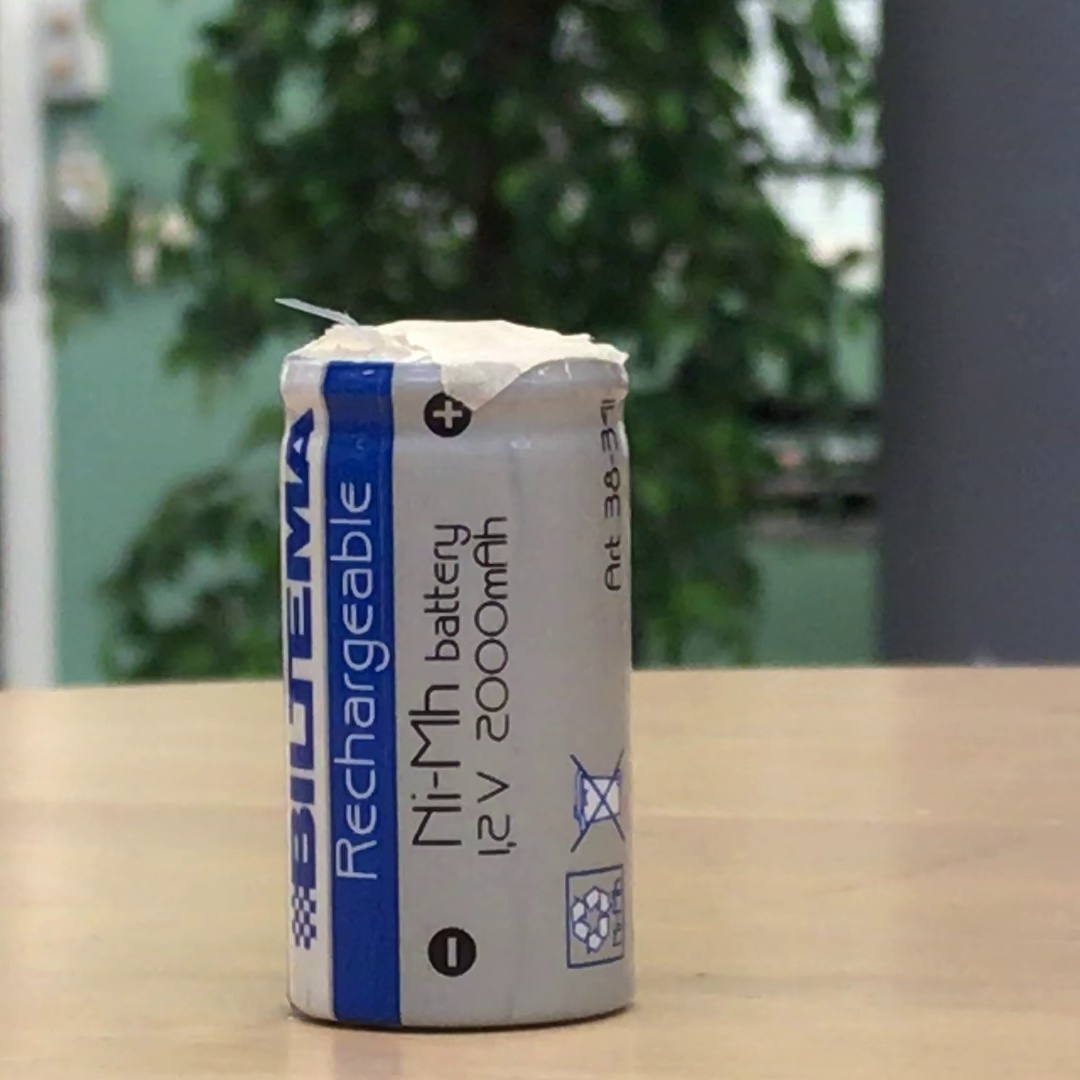keyword: (398, 674, 472, 856)
